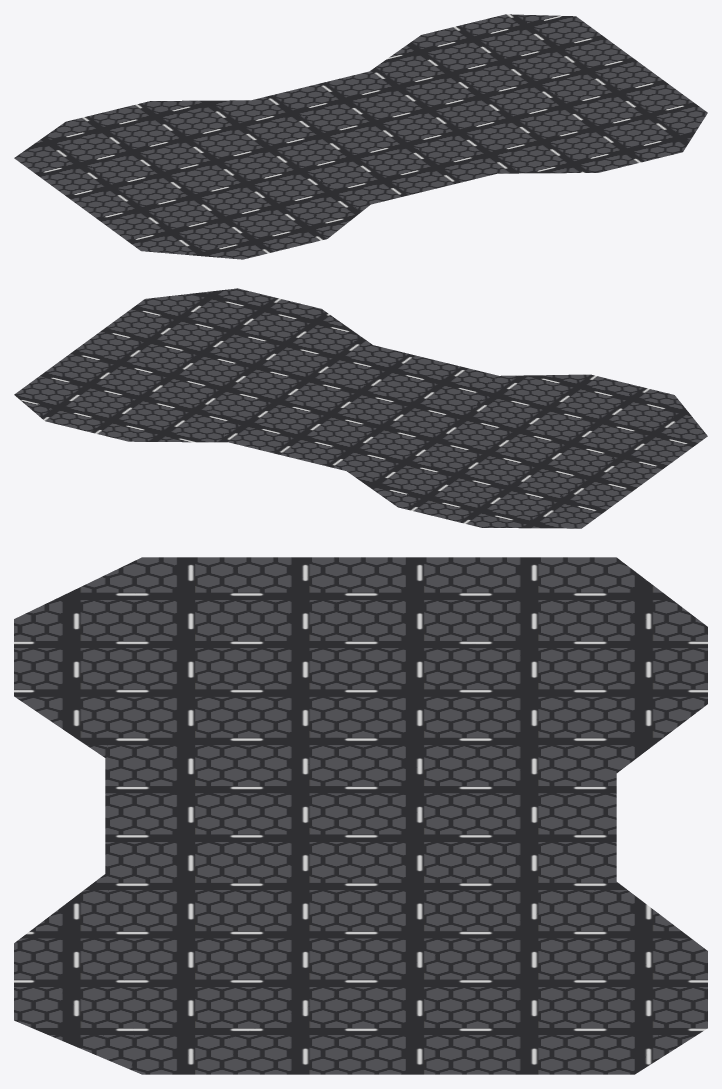
The model's file is Floor.obj.
The picture shows the model from 3 angles, top to bottom: view 1: azimuth 30°, elevation 25°; view 2: azimuth 150°, elevation 25°; view 3: azimuth 270°, elevation 25°; orthographic projection. The views are drawn at different scales.
Visible parts, largest first — view 1: Floor; view 2: Floor; view 3: Floor.
Part boxes in pixels (bbox=[...]): Floor: bbox=[14, 14, 707, 259]; Floor: bbox=[14, 288, 707, 528]; Floor: bbox=[14, 557, 707, 1074].
Bounding box in the file's own units: 67 × 6.02e-06 × 38.
